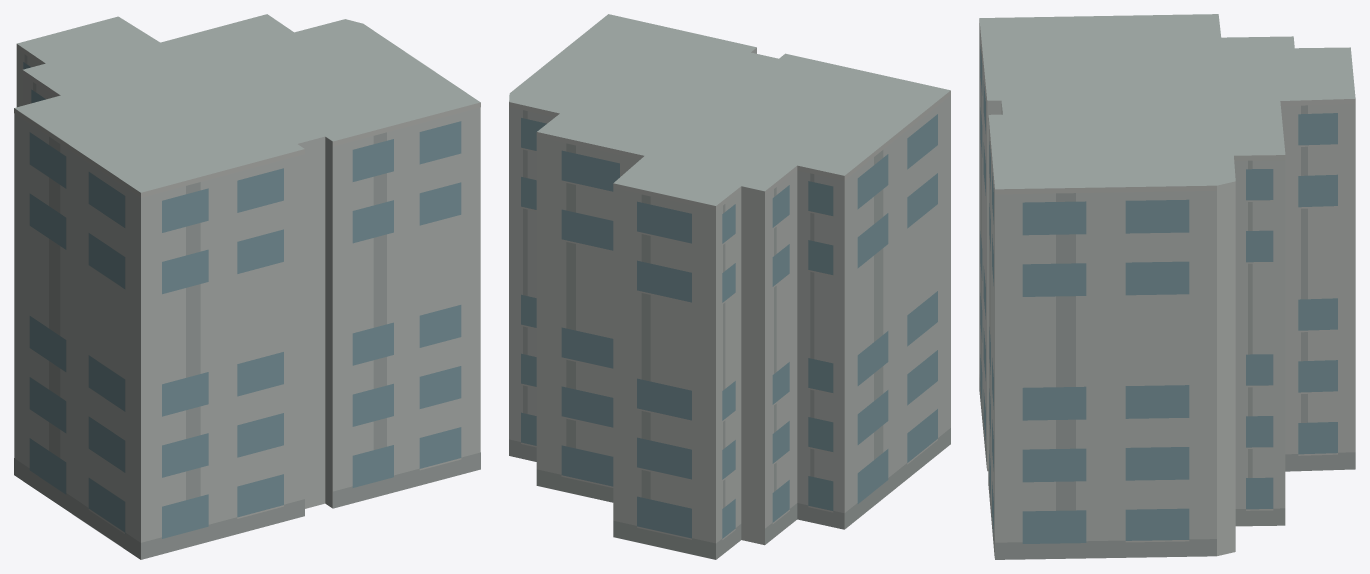
File: survey-upis-32746311.glb
3 renders of one model, left to right at view 1: azimuth 30°, elevation 25°; view 2: azimuth 150°, elevation 25°; view 3: azimuth 270°, elevation 25°, orthographic. The views are drawn at different scales.
Visible parts, largest first — view 1: survey-upis-32746311.tmp; view 2: survey-upis-32746311.tmp; view 3: survey-upis-32746311.tmp.
Part boxes in pixels (<box>): survey-upis-32746311.tmp: <box>14,14,480,559</box>; survey-upis-32746311.tmp: <box>509,14,950,559</box>; survey-upis-32746311.tmp: <box>979,14,1355,559</box>.
Bounding box in the file's own units: 17.76 × 17.5 × 16.11.
